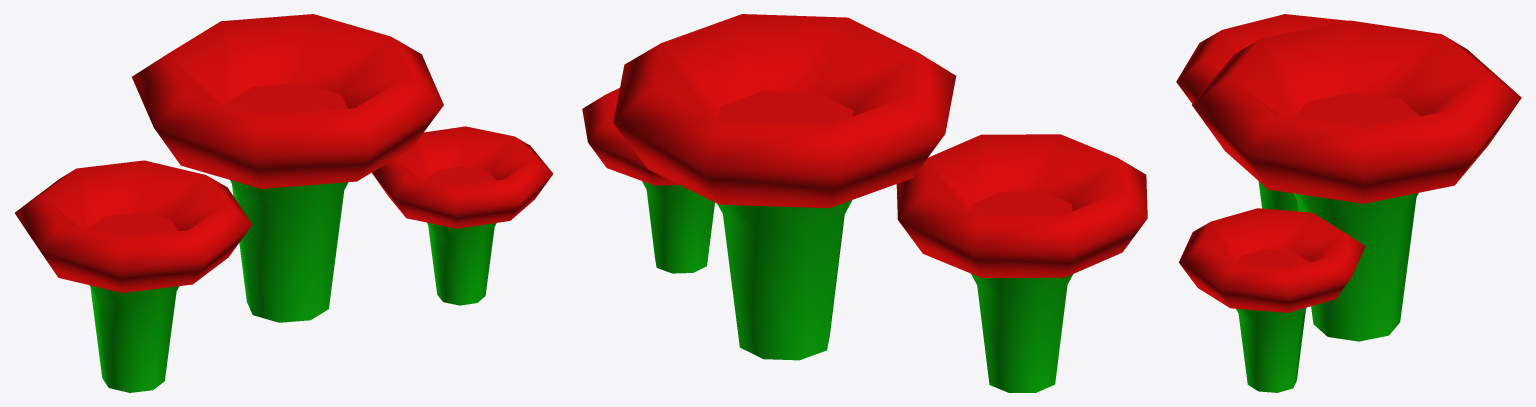
File: Mushroom_Donut.fbx
The picture shows the model from 3 angles, left to right: view 1: azimuth 30°, elevation 25°; view 2: azimuth 150°, elevation 25°; view 3: azimuth 270°, elevation 25°; orthographic projection. The views are drawn at different scales.
Visible parts, largest first — view 1: Mushroom_02; view 2: Mushroom_02; view 3: Mushroom_02.
Part boxes in pixels (bbox=[...]): Mushroom_02: bbox=[15, 14, 553, 392]; Mushroom_02: bbox=[582, 14, 1147, 392]; Mushroom_02: bbox=[1176, 14, 1521, 392].
Size of the model in its own units: 54.8 by 31.96 by 26.39.
